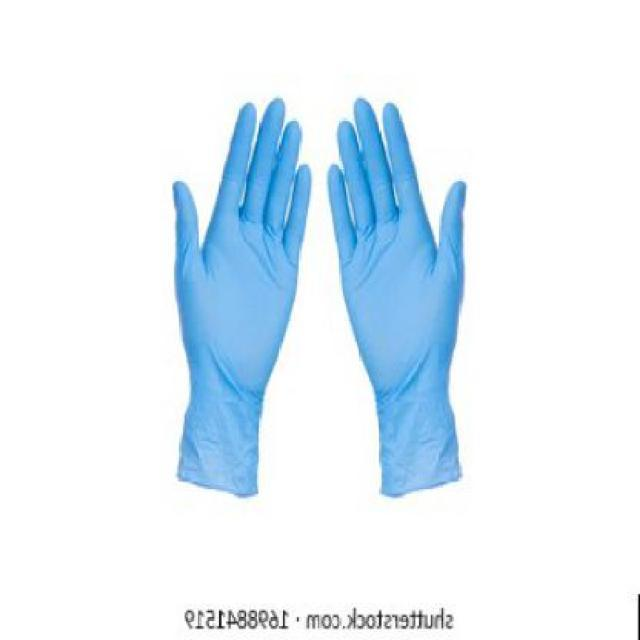gloved_hand: (162, 86, 322, 500), (323, 82, 474, 512)
